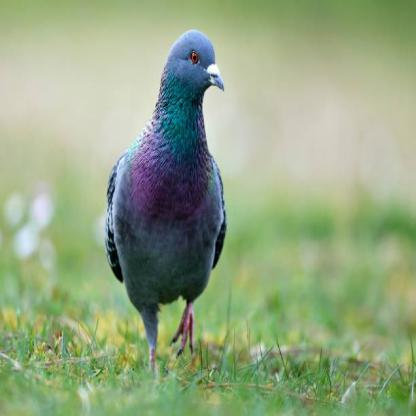Flying Rat: (106, 25, 237, 377)
